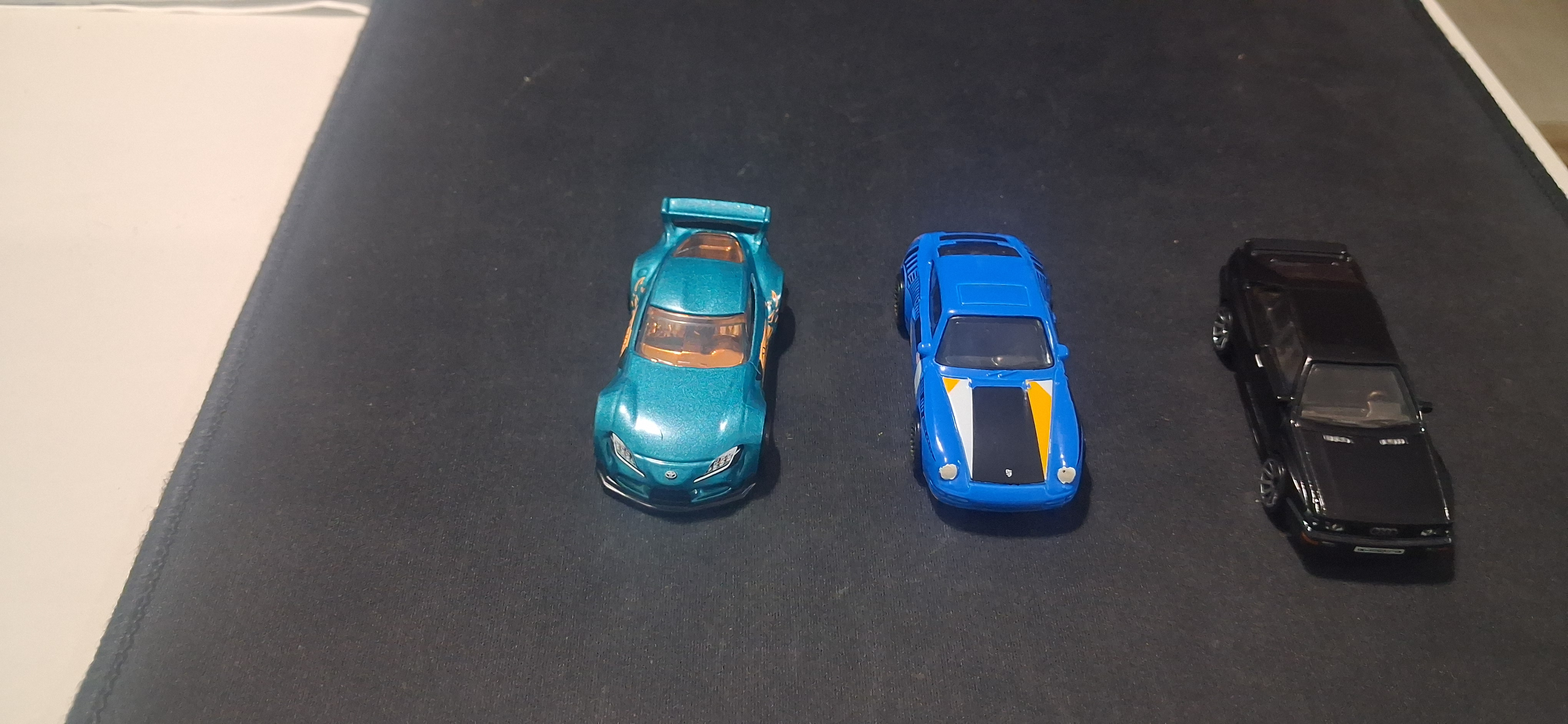Audi_Quattro: (1184, 212, 1491, 623)
Porsche_Carrera: (849, 173, 1112, 587)
Toyota_GR_Supra: (583, 151, 819, 596)
